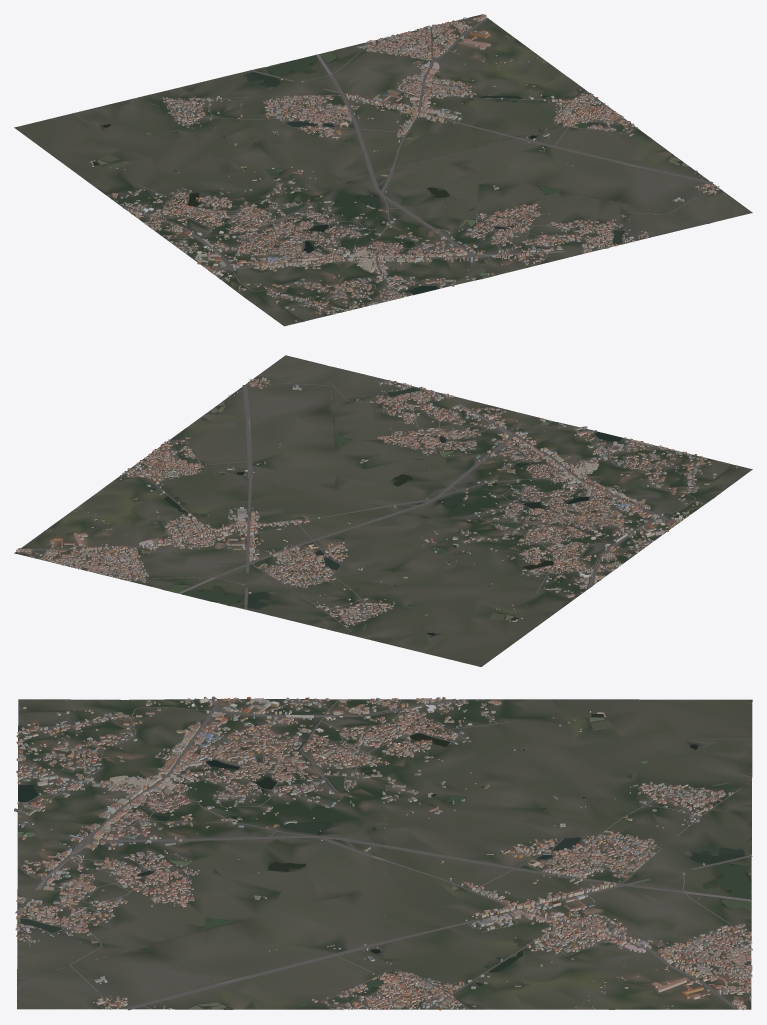
3 views of the same model, one above another, from view 1: azimuth 30°, elevation 25°; view 2: azimuth 150°, elevation 25°; view 3: azimuth 270°, elevation 25° (orthographic). The views are drawn at different scales.
Visible parts, largest first — view 1: ground, buildings, roads, water; view 2: ground, buildings, roads, water; view 3: ground, buildings, roads, water.
Part boxes in pixels (x1,y1,x2,y2): ground: (14,14,752,326); buildings: (89,14,719,321); roads: (113,18,720,313); water: (92,50,705,321); ground: (14,355,752,666); buildings: (16,377,737,627); roads: (29,378,716,631); water: (149,367,733,638); ground: (17,699,752,1009); buildings: (14,696,752,1010); roads: (15,698,752,1010); water: (18,699,751,1009).
Bounding box in the file's own units: 2816 × 29.28 × 2822.
